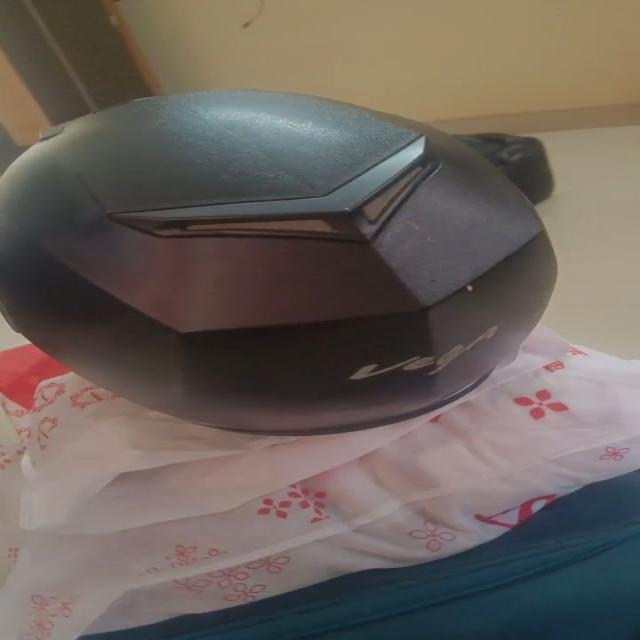Helmet: (0, 90, 558, 438)
